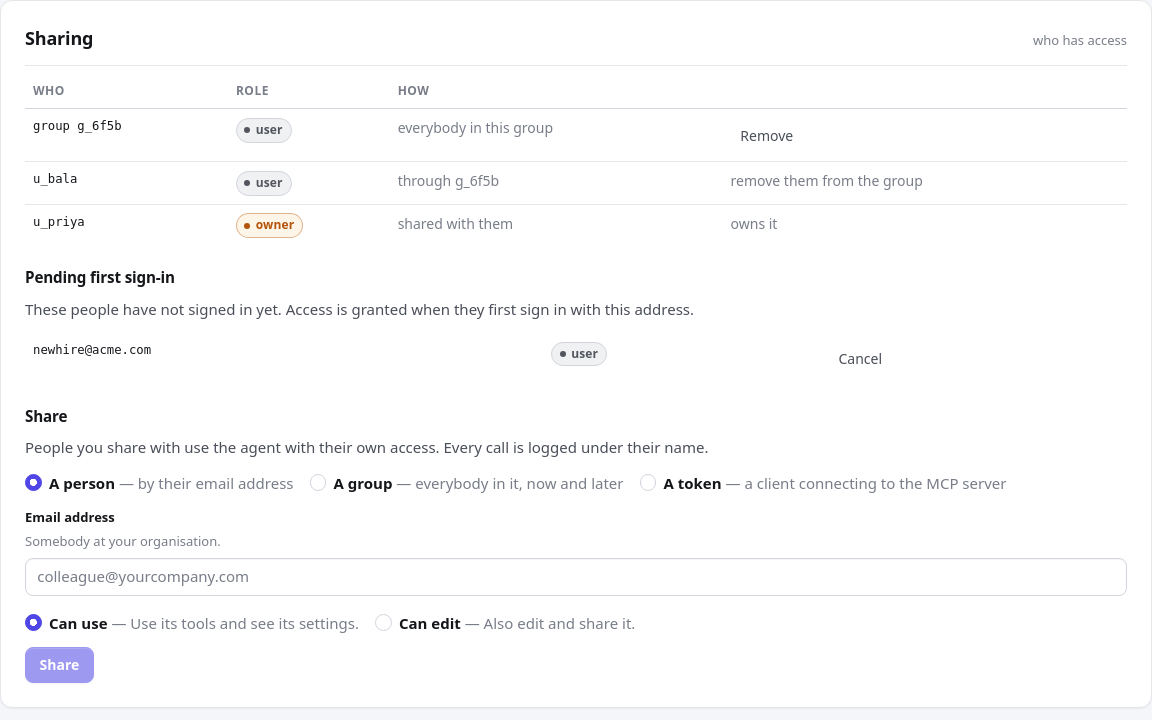
Test: sharing › says so plainly when the share landed
Type "sam@acme.com" into the field labelled "Email address Somebody at your organisation.". click: (576, 577)
box: [25,558,1127,596]
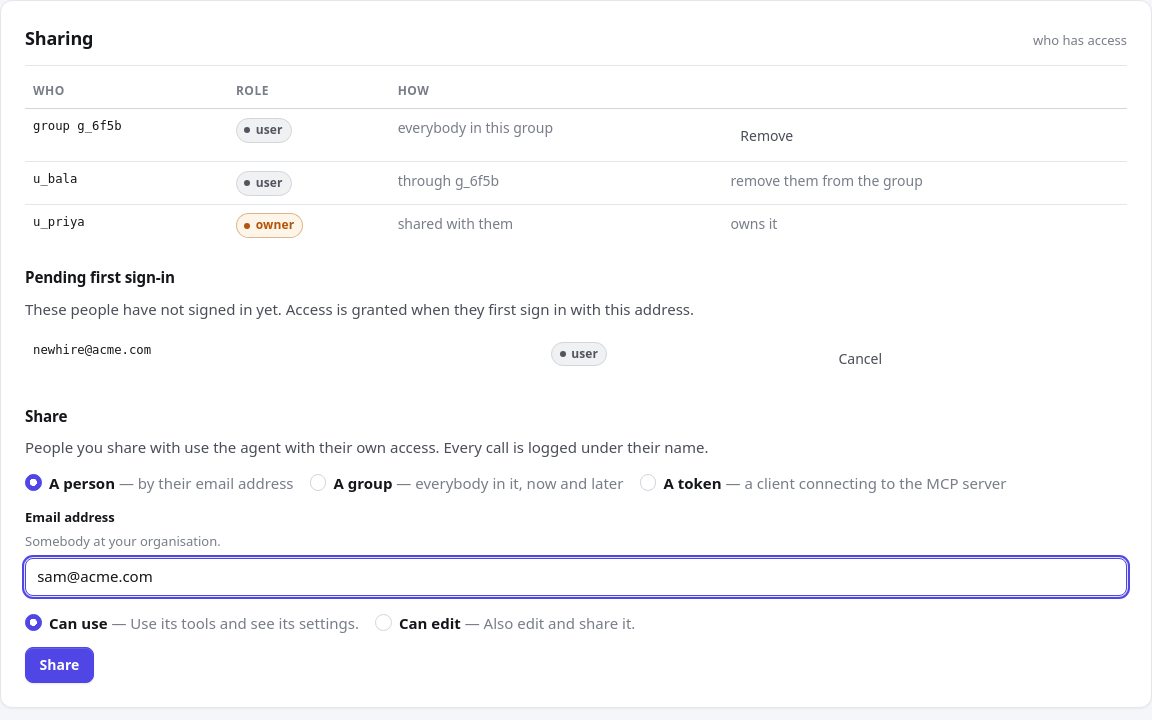
Click the button "Share". click: (59, 665)
box: [25,647,94,683]
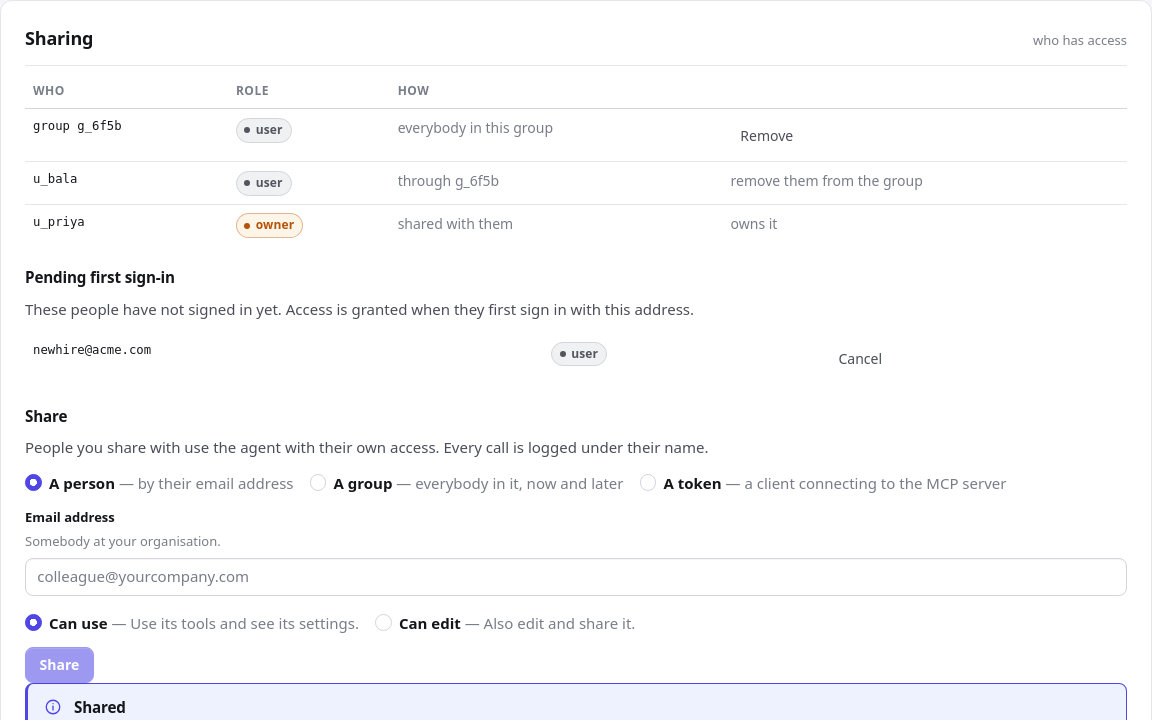
Expected: the heading "Shared" is shown, [74,697,126,717]
